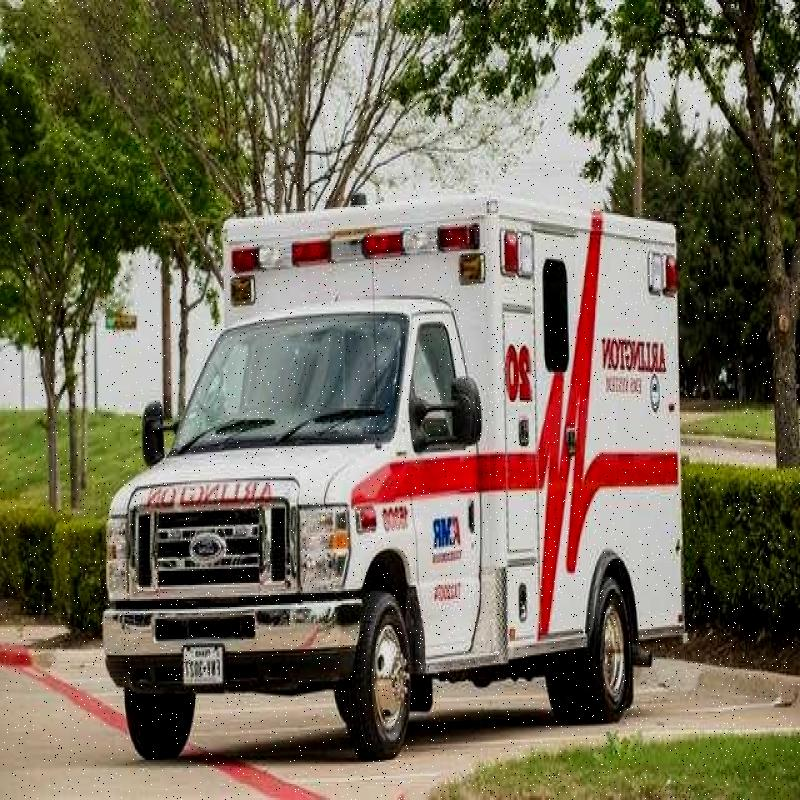AmbulanceSiren: (220, 185, 500, 315)
